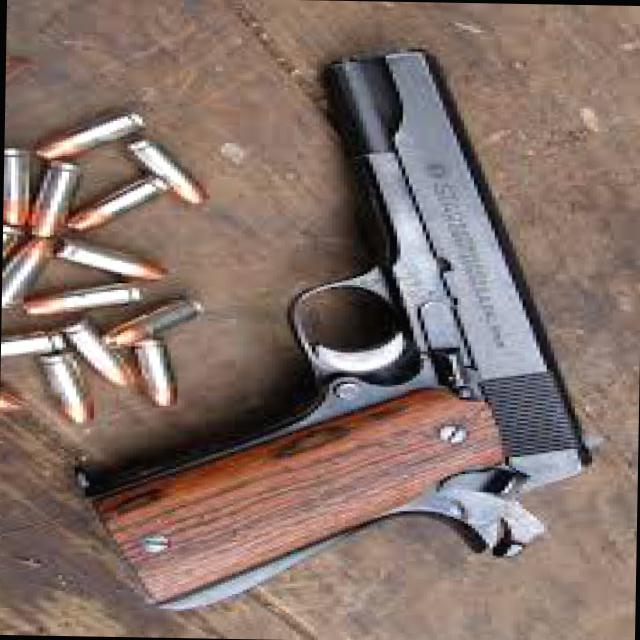handgun: (111, 26, 627, 625)
